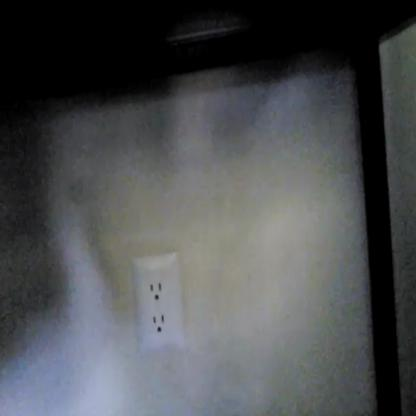OUTLET: (131, 250, 187, 353)
